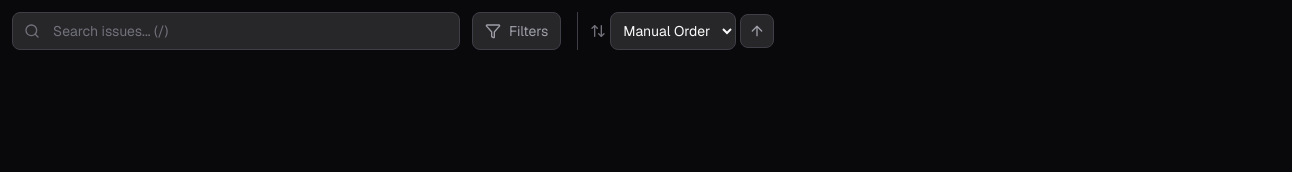
Test: FilterBar › Date Range Filter › should show DateRangePicker when a date field is selected
This screenshot has width=1292, height=172.
Click the button "Filters".
click(517, 31)  # box [472,12,561,50]
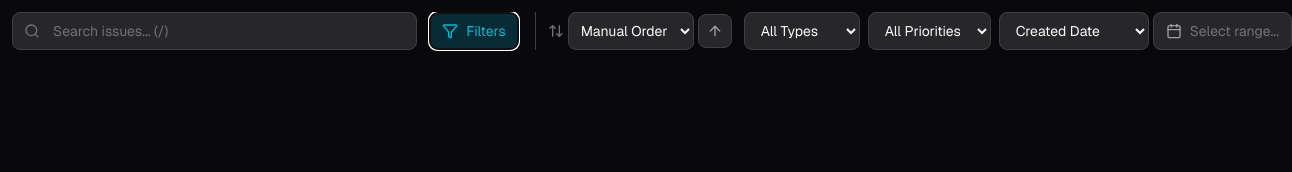
expect the text "Select range..." is shown: met, box [1190,21,1279,41]
